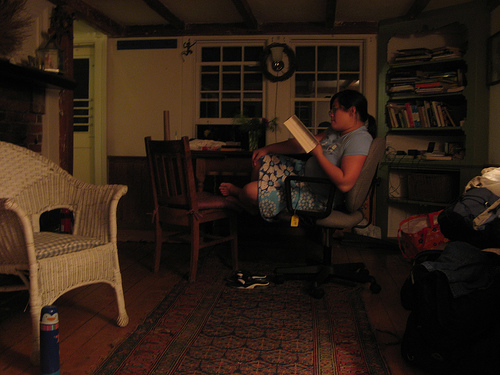without_mask: (325, 94, 364, 135)
